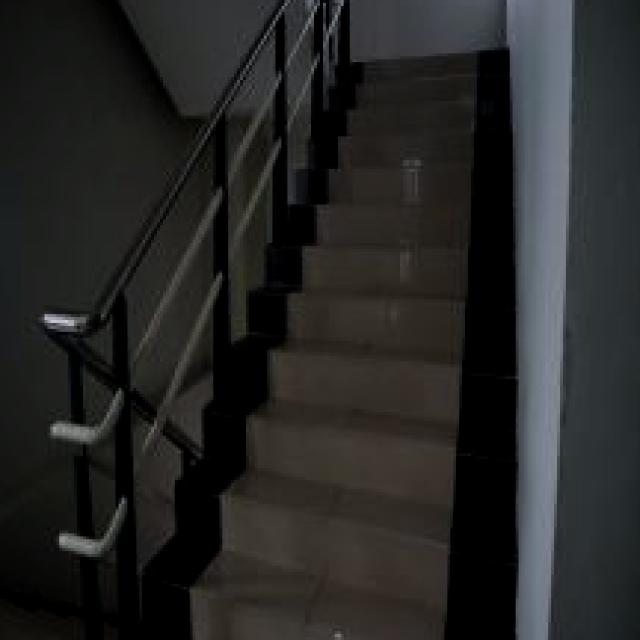upstair: (294, 170, 514, 605)
